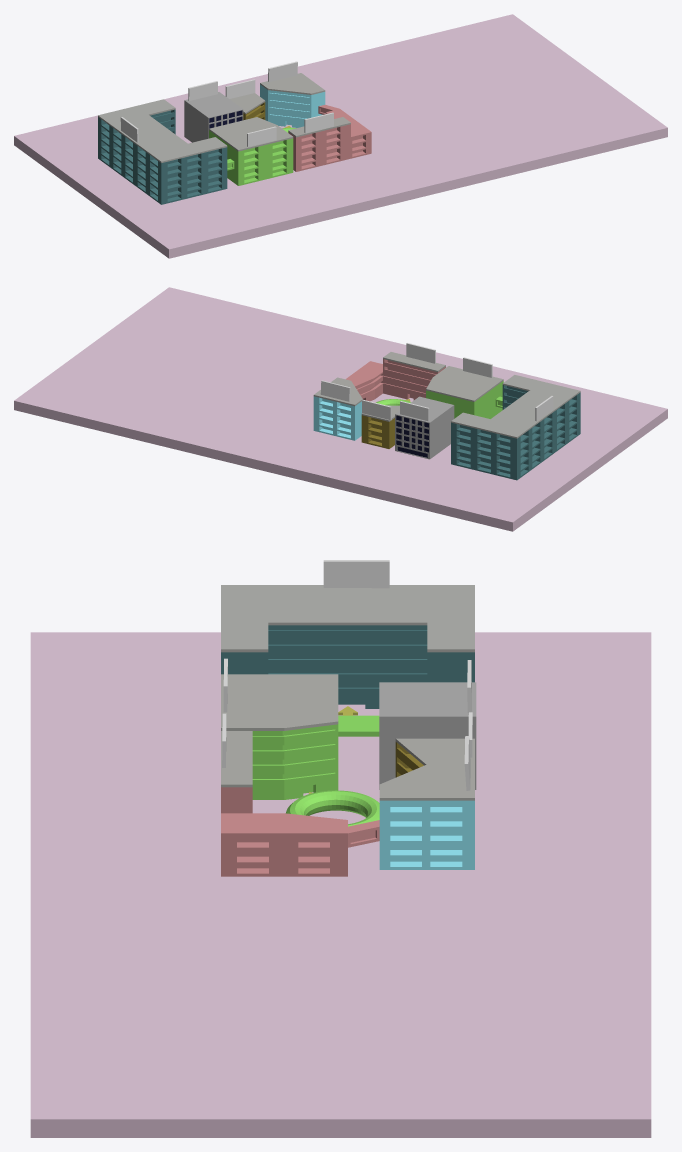
3 renders of one model, top to bottom at view 1: azimuth 30°, elevation 25°; view 2: azimuth 150°, elevation 25°; view 3: azimuth 270°, elevation 25°, orthographic. The views are drawn at different scales.
Visible parts, largest first — view 1: 立方体.005, lll1.002, lll2.001, lll3.002, lll4.001, Cube_Cube.004, lll5.002, Cube.005_Cube.011, Cube.005_Cube.010, Cube.005_Cube.009, Cube.005_Cube.012, Cube.005_Cube.008; view 2: 立方体.005, lll1.002, lll3.002, lll2.001, Cube_Cube.004, lll4.001, lll5.002, Cube.005_Cube.010, Cube.005_Cube.011, Cube.005_Cube.009, Cube.005_Cube.012, Cube.005_Cube.008; view 3: 立方体.005, lll1.002, lll2.001, lll3.002, lll4.001, Cube_Cube.004, 立方体.004, lll5.002, Cube.005_Cube.013.
Part boxes in pixels (x1,y1,x2,y2): 立方体.005: [14, 14, 667, 258]; lll1.002: [98, 99, 227, 204]; lll2.001: [209, 117, 293, 185]; lll3.002: [288, 104, 371, 171]; lll4.001: [260, 73, 325, 128]; Cube_Cube.004: [184, 92, 243, 142]; lll5.002: [229, 93, 265, 120]; Cube.005_Cube.011: [304, 112, 333, 133]; Cube.005_Cube.010: [268, 61, 297, 81]; Cube.005_Cube.009: [225, 79, 255, 98]; Cube.005_Cube.012: [247, 126, 276, 146]; Cube.005_Cube.008: [188, 81, 217, 100]; 立方体.005: [14, 287, 667, 531]; lll1.002: [451, 375, 580, 480]; lll3.002: [346, 352, 445, 401]; lll2.001: [426, 366, 503, 418]; Cube_Cube.004: [395, 396, 454, 459]; lll4.001: [313, 377, 362, 440]; lll5.002: [361, 405, 399, 448]; Cube.005_Cube.010: [320, 380, 350, 401]; Cube.005_Cube.011: [406, 343, 435, 363]; Cube.005_Cube.009: [362, 399, 391, 420]; Cube.005_Cube.012: [463, 357, 492, 377]; Cube.005_Cube.008: [400, 401, 429, 421]; 立方体.005: [30, 632, 651, 1137]; lll1.002: [221, 585, 474, 715]; lll2.001: [221, 674, 338, 799]; lll3.002: [221, 731, 379, 876]; lll4.001: [379, 757, 474, 869]; Cube_Cube.004: [379, 682, 476, 789]; 立方体.004: [286, 715, 379, 826]; lll5.002: [395, 738, 474, 777]; Cube.005_Cube.013: [323, 560, 389, 588].
Bounding box in the file's own units: 156 × 19.65 × 84.07.
